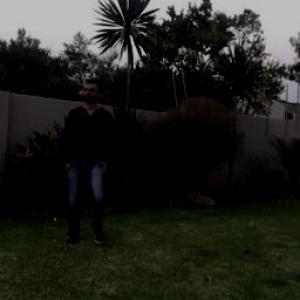follow: (53, 62, 122, 271)
